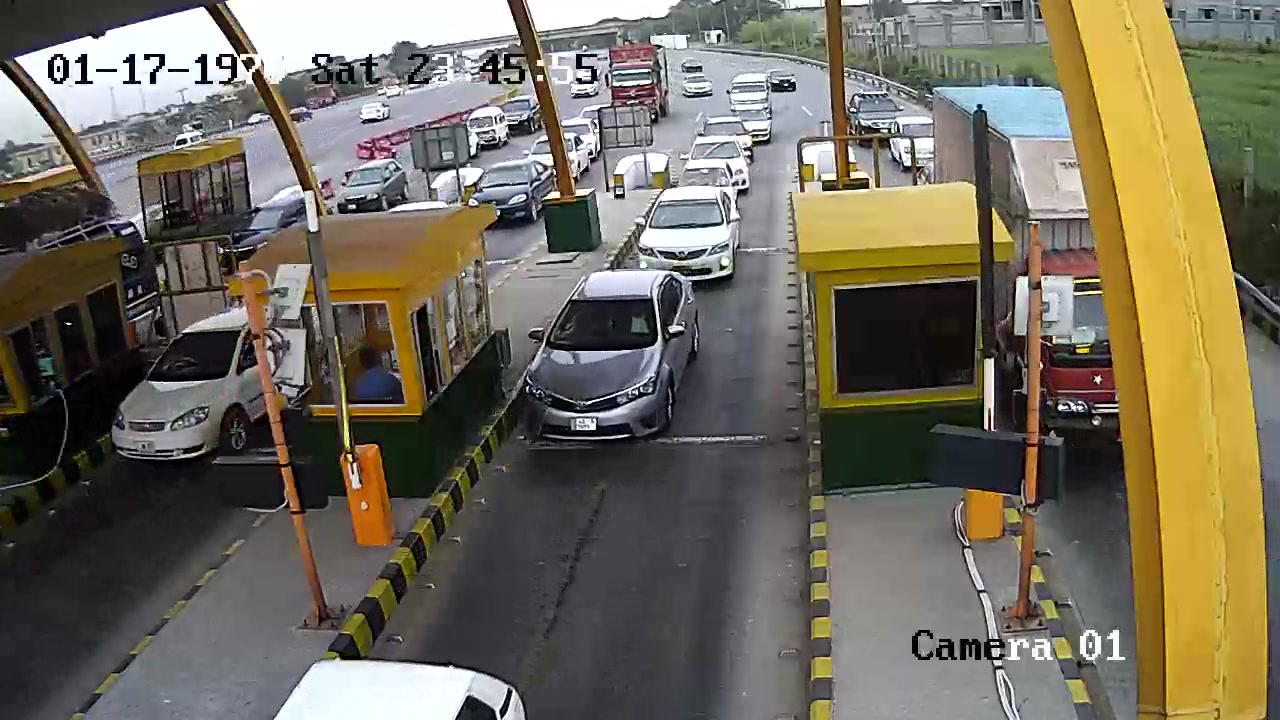F1: (528, 266, 700, 444)
